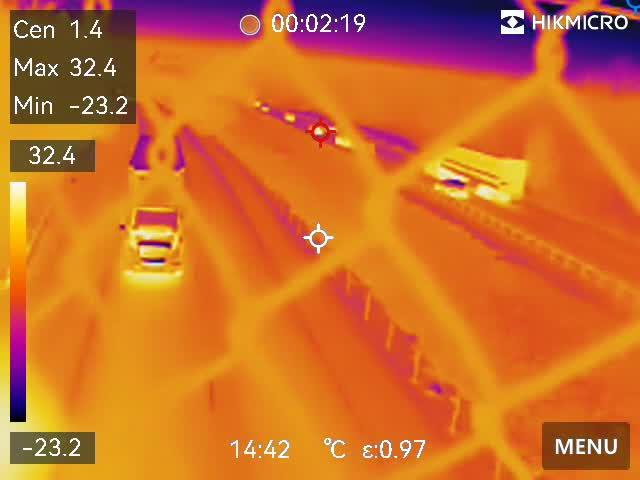heavyTruck: (115, 116, 198, 283), (420, 137, 527, 201)
smallCar: (431, 174, 470, 200)
vehicle: (281, 109, 296, 126), (257, 102, 270, 115)
